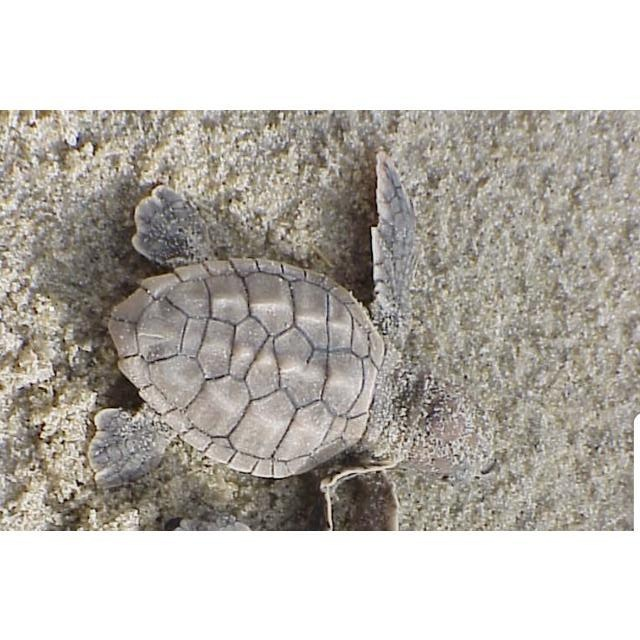turtle: (88, 148, 499, 529)
